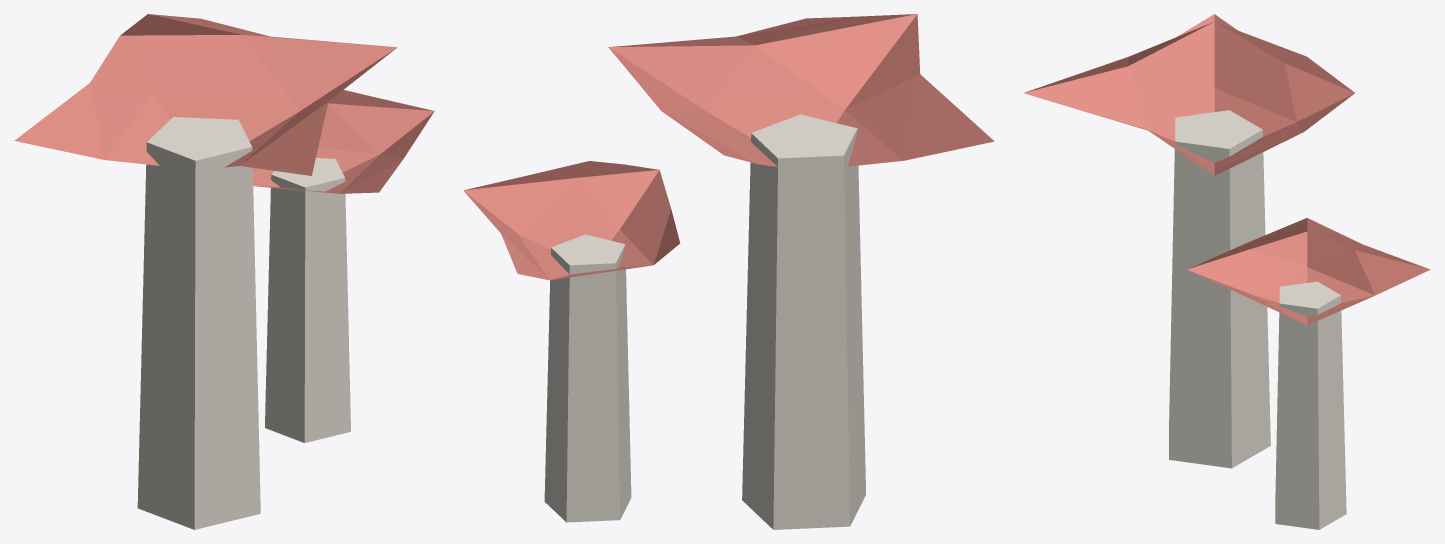
Rendered from mushroom_v48.glb.
The picture shows the model from 3 angles, left to right: view 1: azimuth 30°, elevation 25°; view 2: azimuth 150°, elevation 25°; view 3: azimuth 270°, elevation 25°; orthographic projection. The views are drawn at different scales.
Visible parts, largest first — view 1: lod0; view 2: lod0; view 3: lod0.
Part boxes in pixels (bbox=[...]): lod0: bbox=[14, 14, 434, 529]; lod0: bbox=[463, 14, 994, 529]; lod0: bbox=[1023, 14, 1430, 529].
Size of what is drawn, in the model's own units: 0.3532 by 0.3445 by 0.3038.
